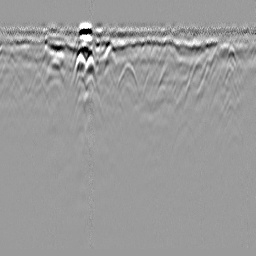cavity: (116, 60, 139, 90)
